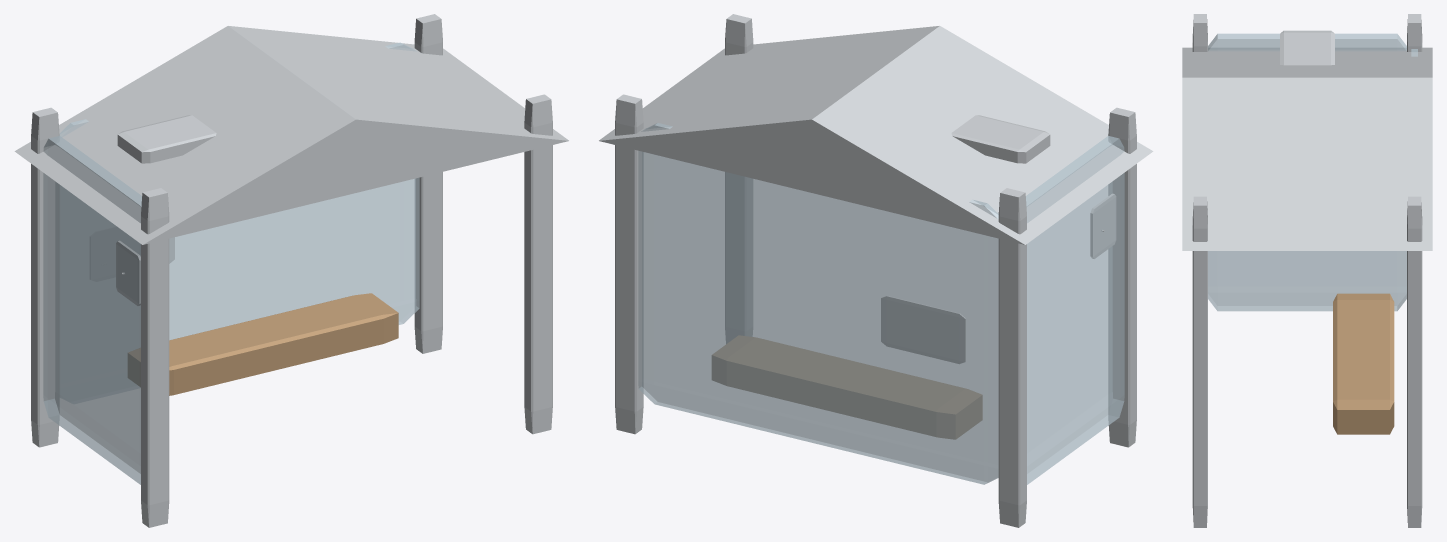
The model's file is b01_gabled_neighborhood_bus_shelter.glb.
The picture shows the model from 3 angles, left to right: view 1: azimuth 30°, elevation 25°; view 2: azimuth 150°, elevation 25°; view 3: azimuth 270°, elevation 25°; orthographic projection. The views are drawn at different scales.
Parts seen in each view (by area): view 1: b01_gabled_neighborhood_bus_shelter; view 2: b01_gabled_neighborhood_bus_shelter; view 3: b01_gabled_neighborhood_bus_shelter.
Part boxes in pixels (box(x1,y1,x2,y2)): b01_gabled_neighborhood_bus_shelter: box(14, 14, 568, 527); b01_gabled_neighborhood_bus_shelter: box(599, 14, 1153, 527); b01_gabled_neighborhood_bus_shelter: box(1182, 14, 1432, 527).
Size of the model in its own units: 3.42 by 2.78 by 1.78.
